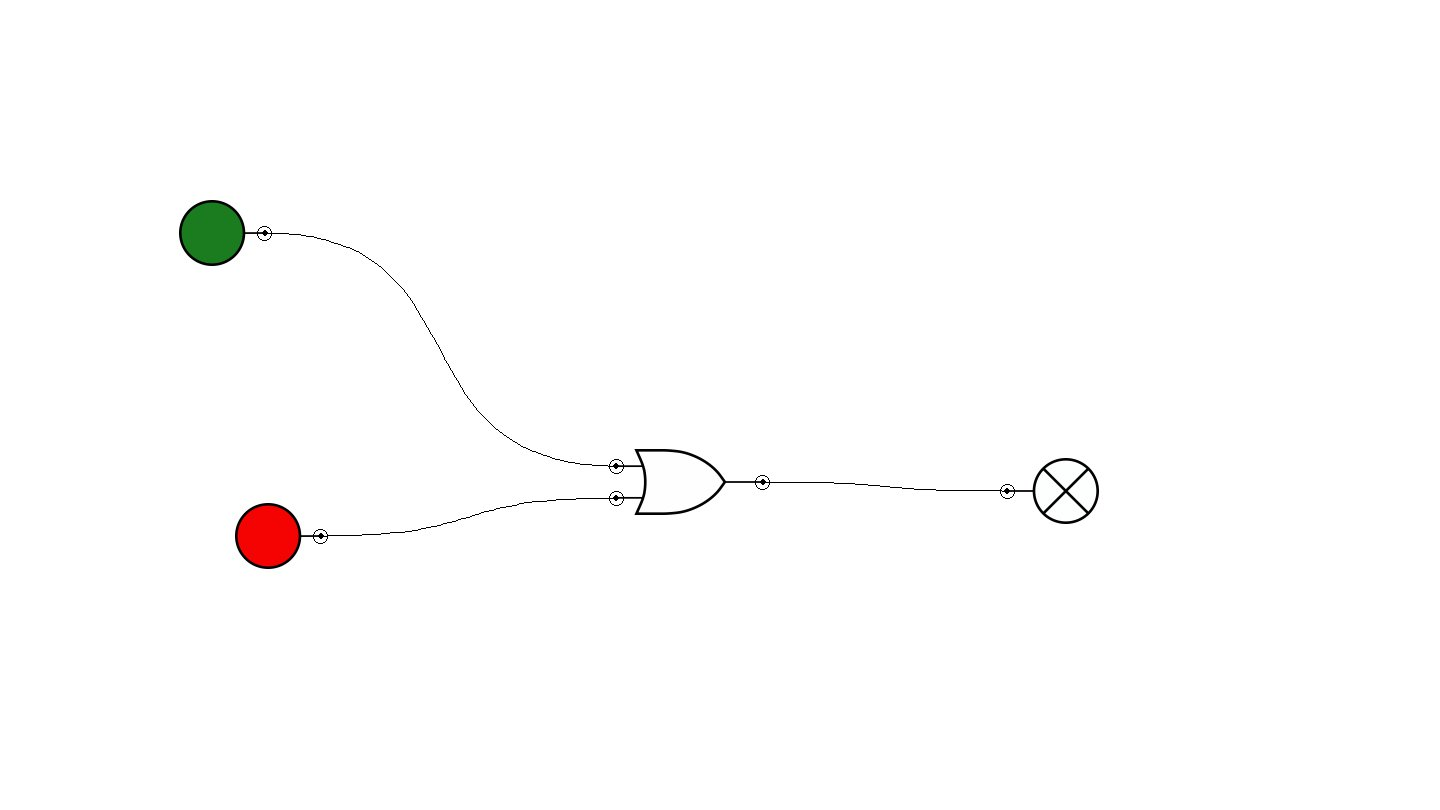bulb: (1000, 458, 1099, 524)
or: (609, 449, 770, 515)
switch_False: (235, 503, 328, 569)
switch_True: (179, 200, 272, 266)
